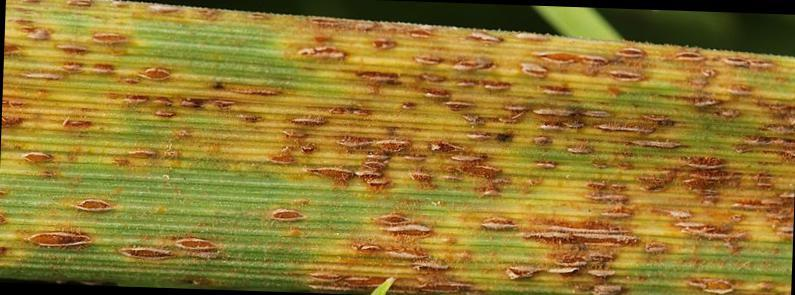Wheat: (6, 60, 792, 270)
